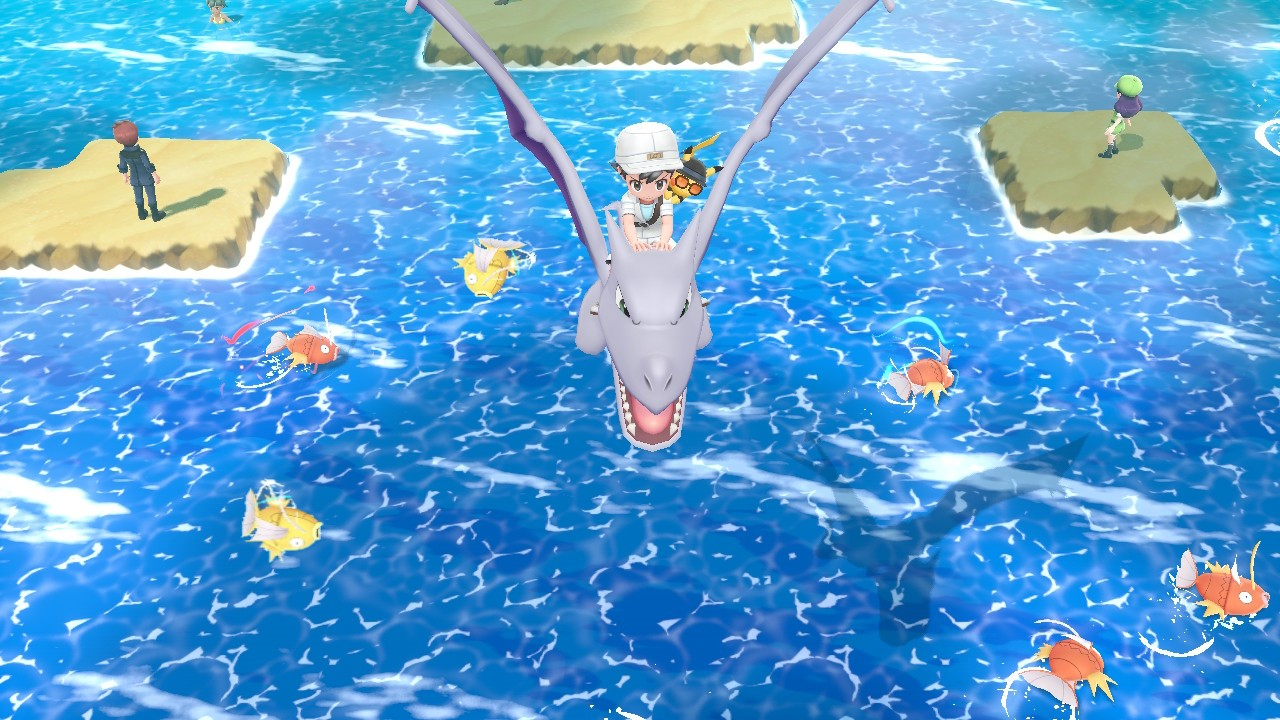Golden: (239, 487, 326, 564), (451, 233, 526, 301)
Red: (1021, 623, 1119, 712), (1169, 544, 1273, 621), (264, 326, 341, 374), (885, 355, 957, 402)
